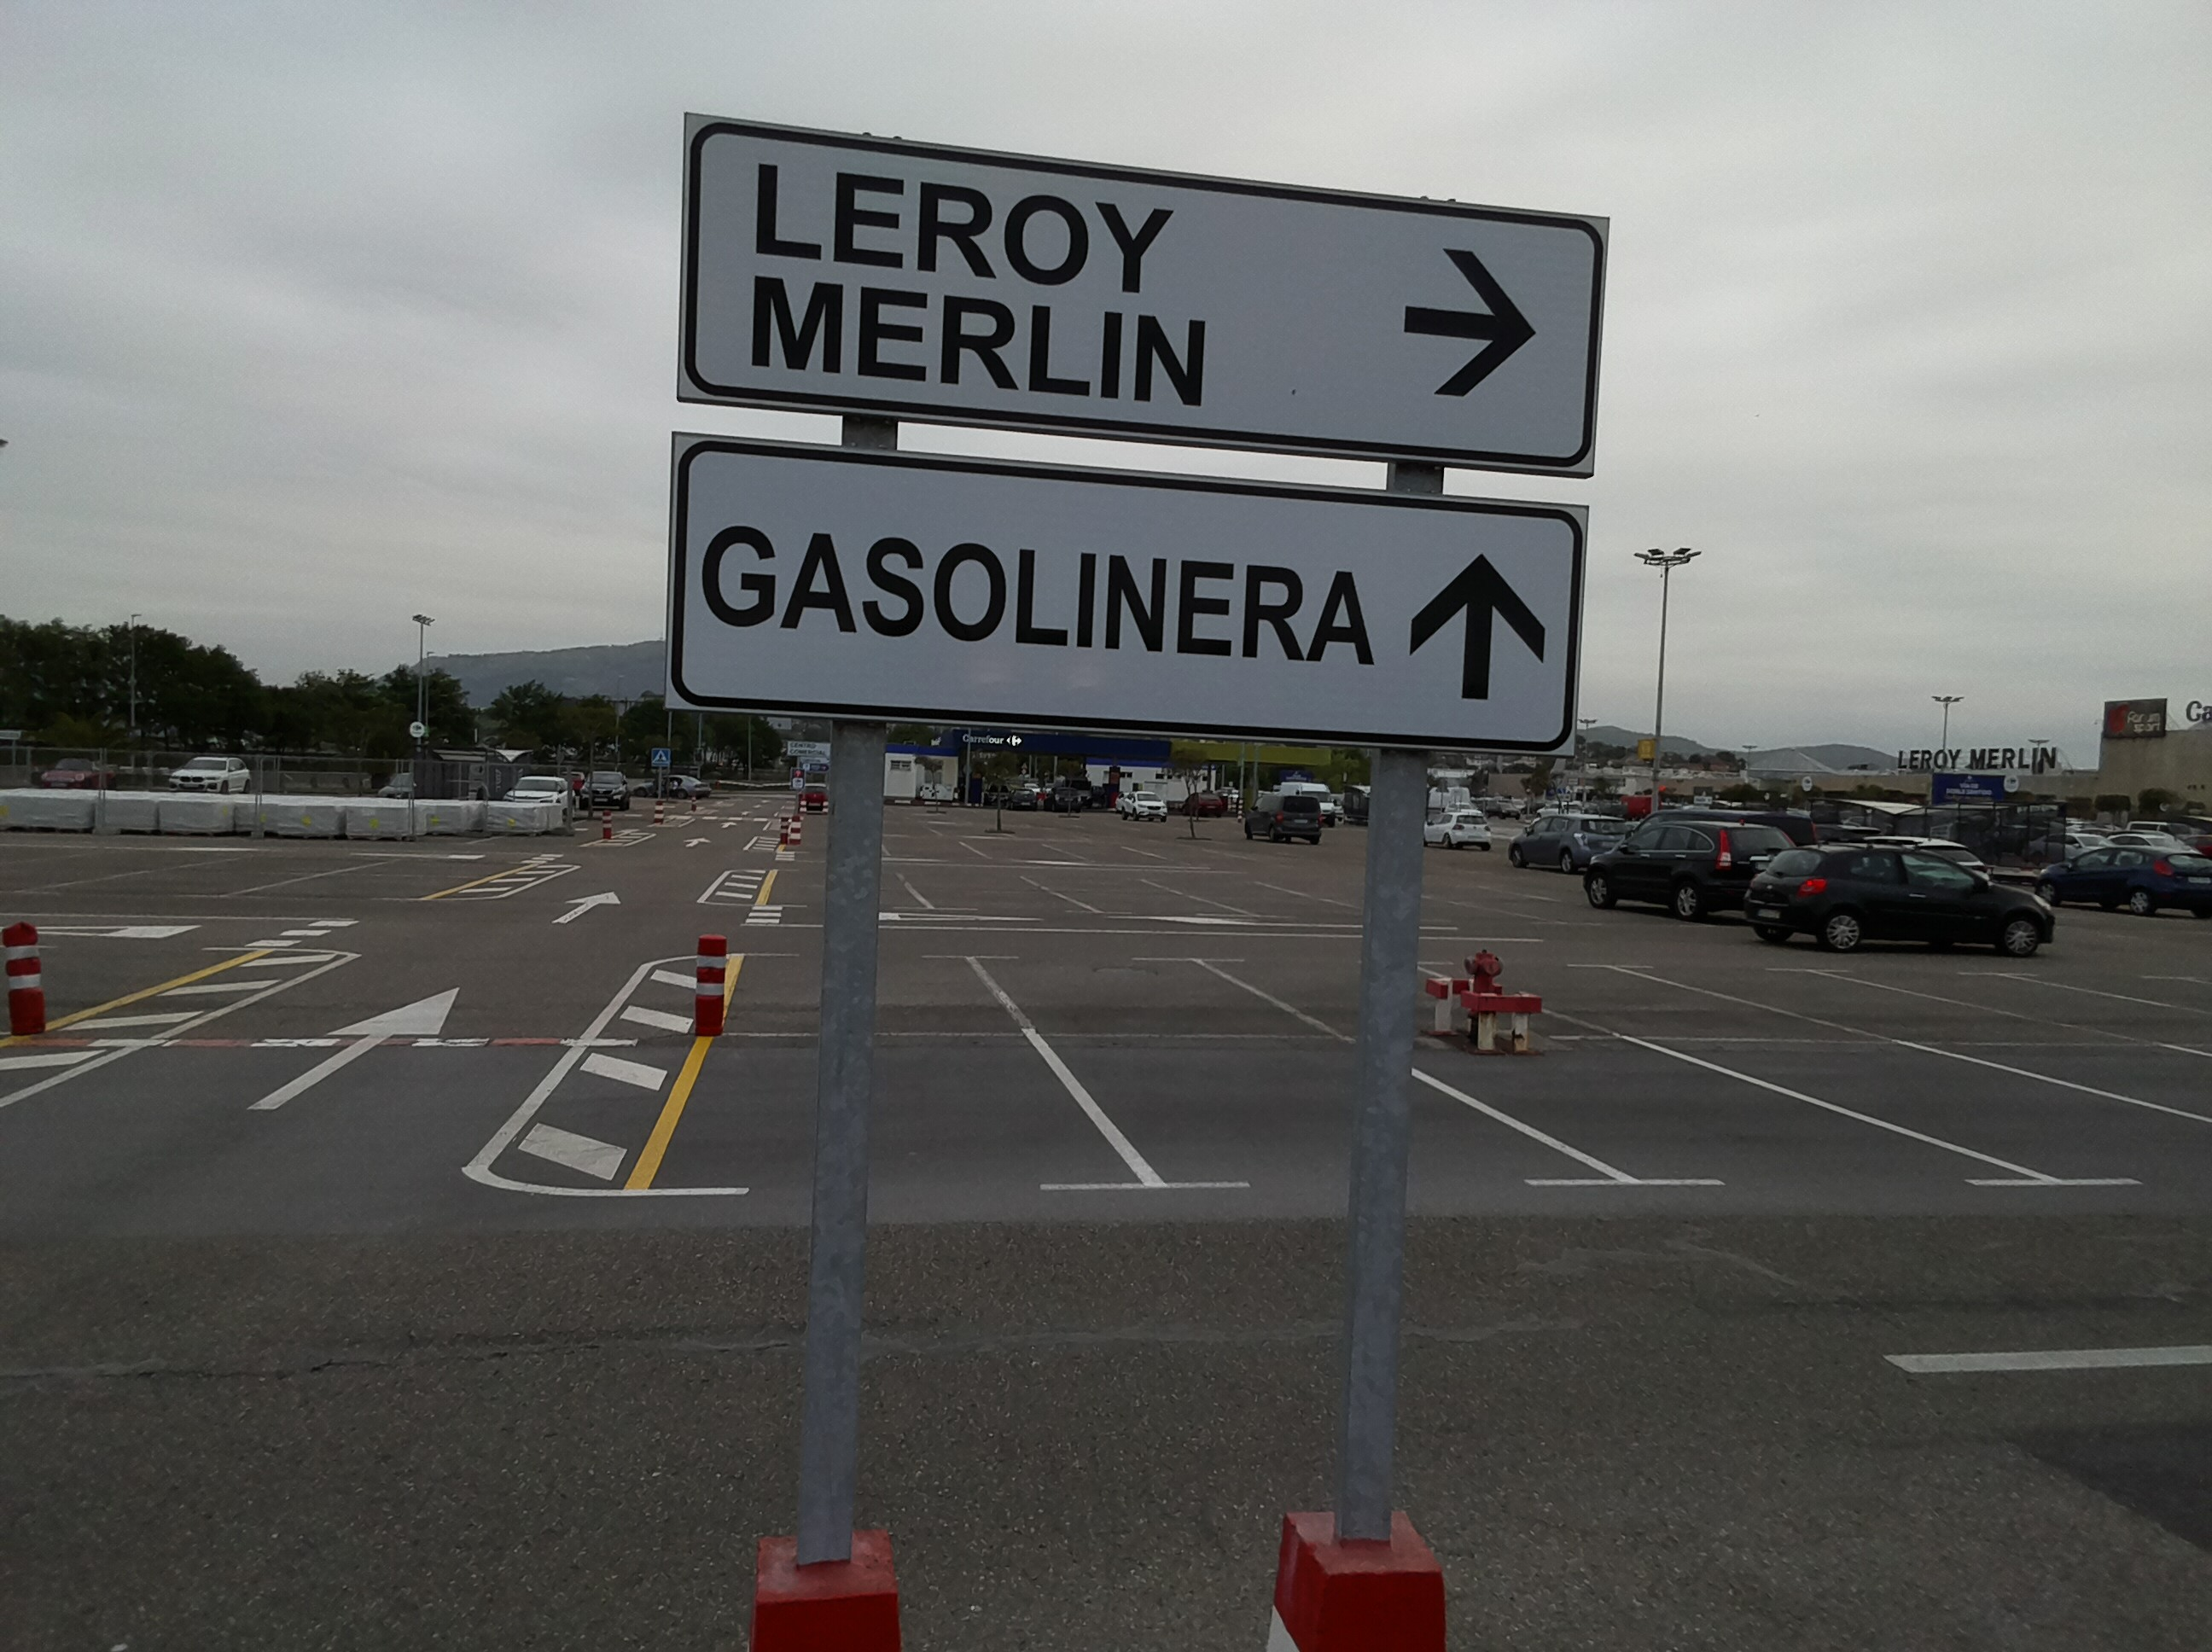Cartel: (668, 108, 1617, 489), (652, 422, 1607, 769)
Poste: (1348, 720, 1445, 1555), (814, 682, 885, 1584)
